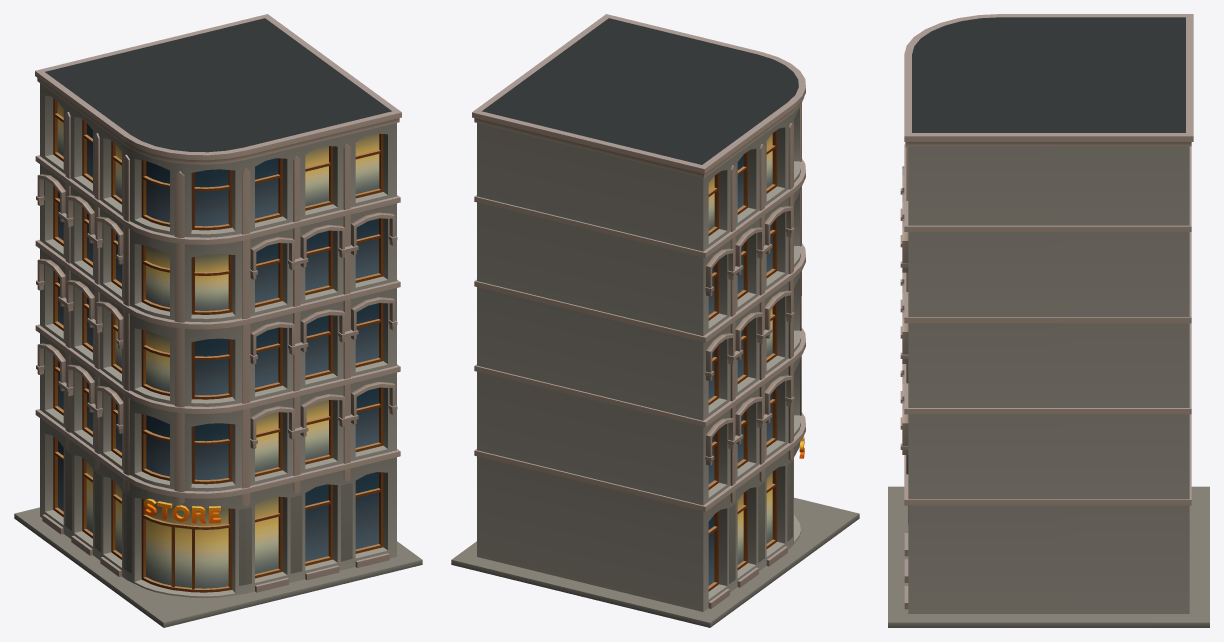
The model's file is Building_20A.fbx.
3 renders of one model, left to right at view 1: azimuth 30°, elevation 25°; view 2: azimuth 150°, elevation 25°; view 3: azimuth 270°, elevation 25°, orthographic. The views are drawn at different scales.
Visible parts, largest first — view 1: Building_20A, Window_Lights_20A, Building_20A_Logo; view 2: Building_20A, Window_Lights_20A; view 3: Building_20A.
Part boxes in pixels (<box>): Building_20A: <box>14,14,422,627</box>; Window_Lights_20A: <box>57,102,379,588</box>; Building_20A_Logo: <box>143,498,220,523</box>; Building_20A: <box>451,14,859,627</box>; Window_Lights_20A: <box>708,134,772,564</box>; Building_20A: <box>888,14,1209,627</box>.
Bounding box in the file's own units: 1600 × 2660 × 1600.
